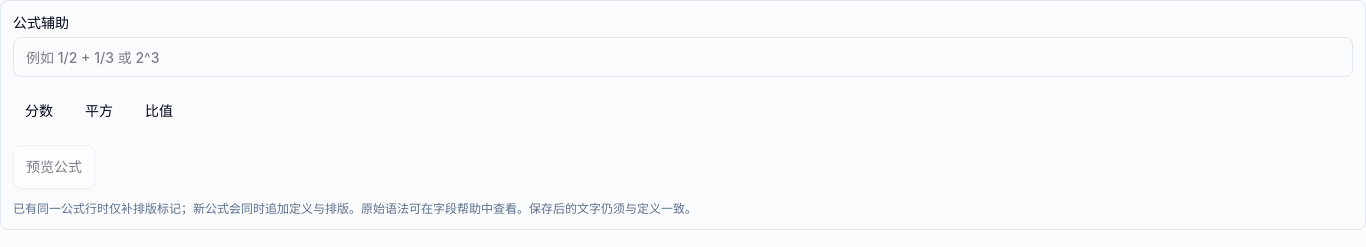
Test: supports keyboard access to common formula presets
Click the field labelled "公式辅助" at [683, 57], box [13,37,1353,77]
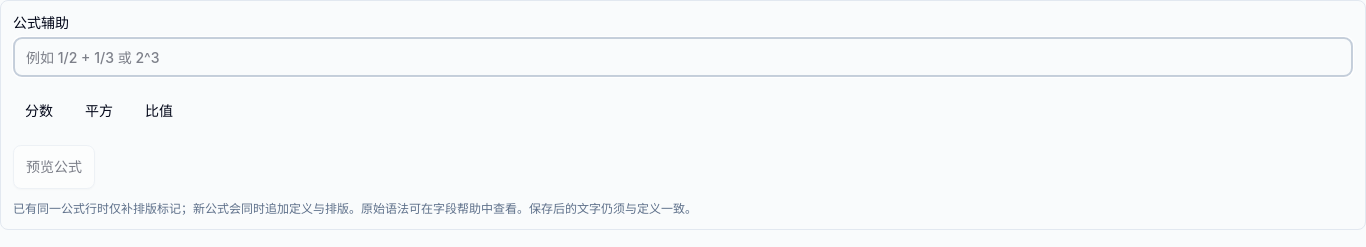
Press Tab Enter
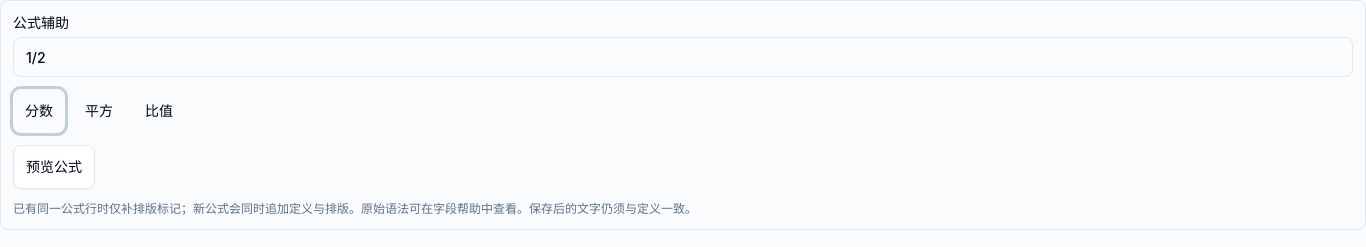
Result: the field labelled "公式辅助" holds "1/2" at [13,37,1353,77]
